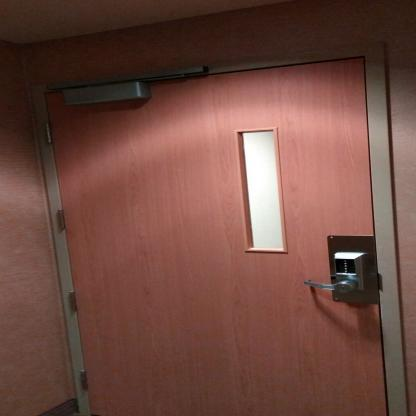door: (30, 56, 377, 415)
hinged: (64, 288, 82, 314), (53, 208, 71, 232), (78, 368, 92, 392), (42, 122, 56, 145)
lever: (298, 276, 354, 297)
